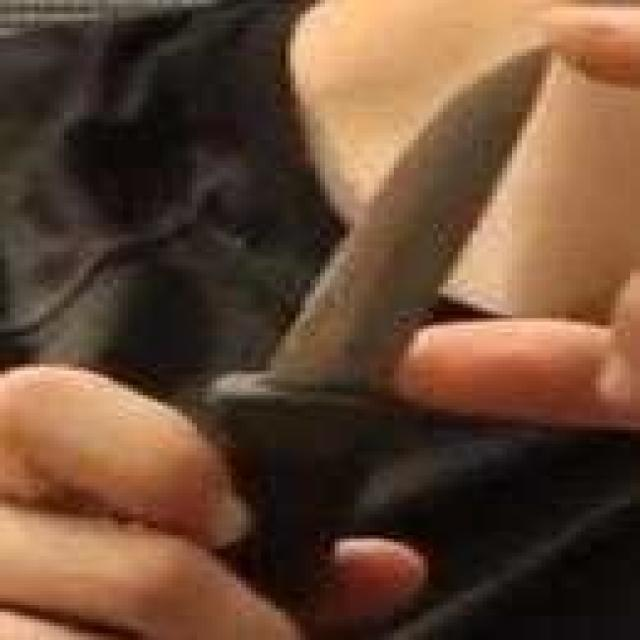knife: (214, 13, 576, 631)
